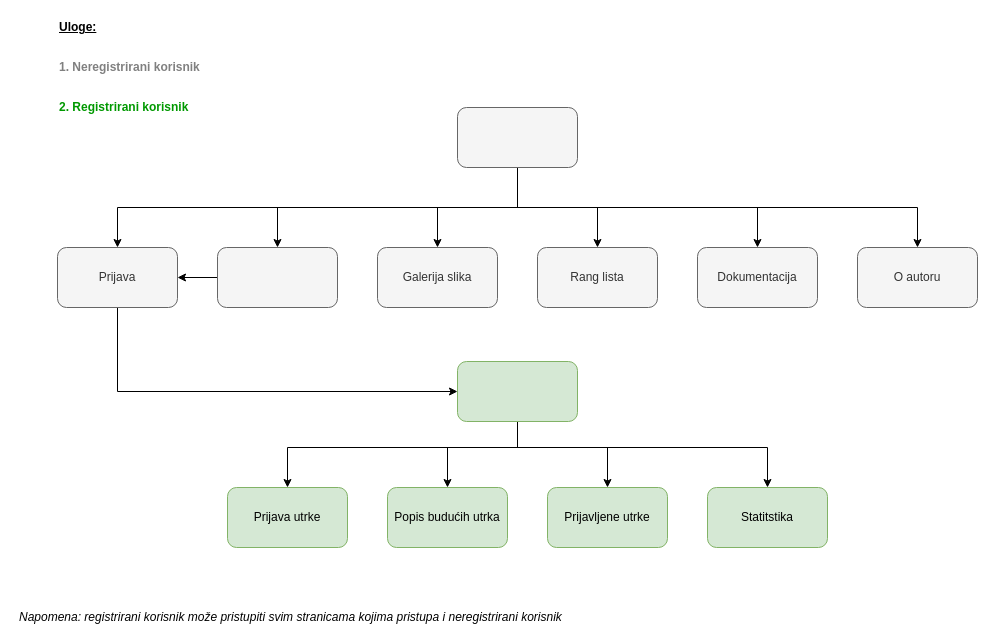
Some shapes in this 995 by 644 pixel diagram are drawn without their labels. Here are the shapes that lost their labels. From the top down, the centre of each, then its label:
At (517,137): "Početna (neprijavljeni korisnik)".
At (277,277): "Registracija".
At (517,391): "Početna (prijavljeni korisnik)".
